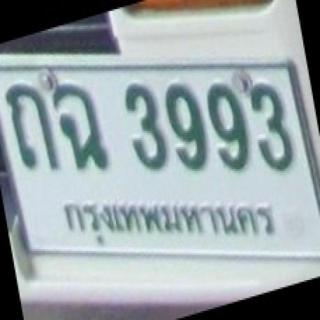A09: (54, 80, 112, 172)
A22: (3, 81, 68, 172)
N03: (248, 80, 299, 176), (120, 80, 170, 172)
N09: (207, 82, 252, 172), (163, 80, 207, 170)
P04: (35, 52, 219, 221), (59, 195, 278, 247)
